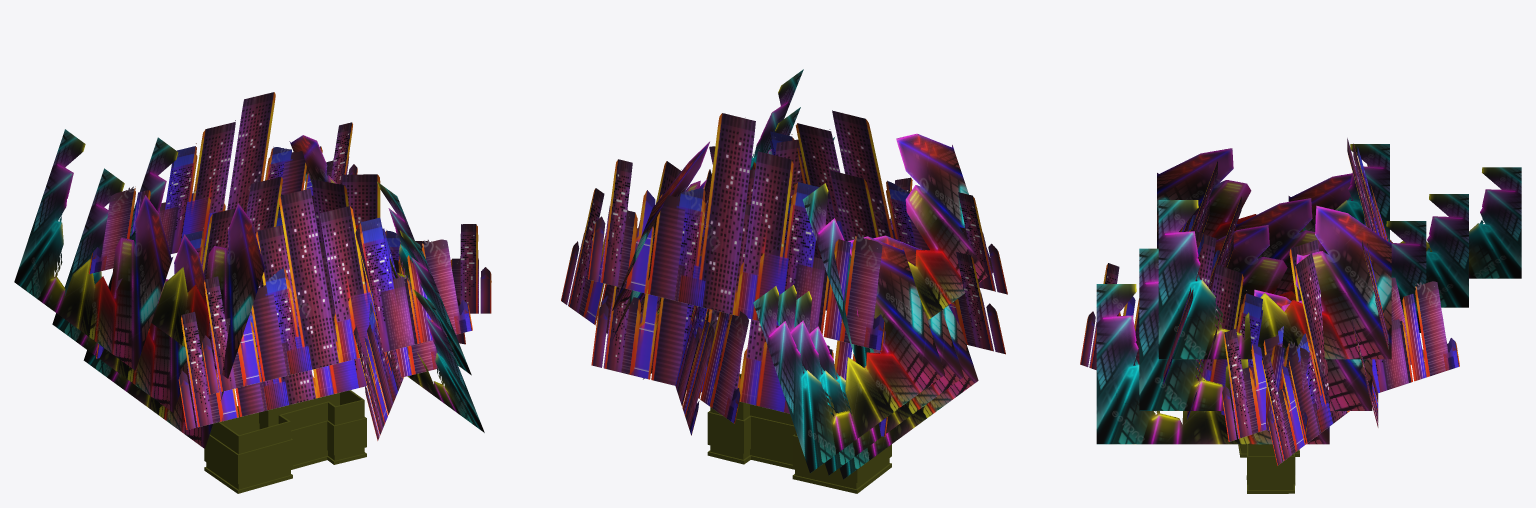
Rendered from World-Whitebox - Advertising-Hell.fbx.
3 views of the same model, side by side, from view 1: azimuth 30°, elevation 25°; view 2: azimuth 150°, elevation 25°; view 3: azimuth 270°, elevation 25° (orthographic). The views are drawn at different scales.
Parts seen in each view (by area): view 1: Building V1.006, Plane.019, Building V1.005, ADV HELL, Building V1.002, Plane.011, Plane.017, Building V1.003, Building V1.004, Plane.016, Building V1.001, Plane.012 (+3 smaller); view 2: Building V1.005, Plane.019, Plane.011, Building V1.001, Building V1.006, Building V1.003, ADV HELL, Plane.017, Building V1.002, Plane.015, Plane.012, Building V1 (+2 smaller); view 3: Plane.012, Plane.016, Building V1, Plane.018, Building V1.003, Plane.017, Plane.011, Building V1.004, Plane.019, Plane.015, ADV HELL, Building V1.005 (+2 smaller).
Part boxes in pixels (left/top/right/bottom): Building V1.006: left=202, top=188, right=472, bottom=394; Plane.019: left=14, top=129, right=172, bottom=370; Building V1.005: left=88, top=92, right=357, bottom=273; ADV HELL: left=204, top=390, right=366, bottom=493; Building V1.002: left=178, top=225, right=440, bottom=429; Plane.011: left=108, top=137, right=265, bottom=378; Plane.017: left=52, top=168, right=205, bottom=412; Building V1.003: left=201, top=173, right=491, bottom=313; Building V1.004: left=353, top=219, right=404, bottom=440; Plane.016: left=363, top=273, right=484, bottom=432; Building V1.001: left=96, top=177, right=282, bottom=358; Plane.012: left=289, top=135, right=419, bottom=282; Building V1.005: left=588, top=113, right=884, bottom=350; Plane.019: left=753, top=236, right=945, bottom=473; Plane.011: left=802, top=133, right=993, bottom=367; Building V1.001: left=591, top=203, right=887, bottom=436; Building V1.006: left=709, top=110, right=1007, bottom=294; Building V1.003: left=561, top=161, right=748, bottom=423; ADV HELL: left=707, top=374, right=891, bottom=493; Plane.017: left=777, top=235, right=963, bottom=475; Building V1.002: left=784, top=170, right=1005, bottom=354; Plane.015: left=794, top=241, right=978, bottom=479; Plane.012: left=612, top=69, right=803, bottom=310; Building V1: left=657, top=169, right=714, bottom=435; Plane.012: left=1158, top=200, right=1391, bottom=359; Plane.016: left=1096, top=284, right=1329, bottom=444; Building V1: left=1222, top=239, right=1459, bottom=441; Plane.018: left=1139, top=248, right=1372, bottom=410; Building V1.003: left=1262, top=253, right=1411, bottom=465; Plane.017: left=1236, top=194, right=1468, bottom=307; Plane.011: left=1157, top=144, right=1389, bottom=254; Building V1.004: left=1080, top=229, right=1309, bottom=439; Plane.019: left=1288, top=167, right=1521, bottom=278; Plane.015: left=1210, top=221, right=1426, bottom=332; ADV HELL: left=1238, top=444, right=1299, bottom=493; Building V1.005: left=1347, top=138, right=1388, bottom=348.
Bounding box in the file's own units: 63273 × 60313 × 66741.
4 materials, 2 textured.
